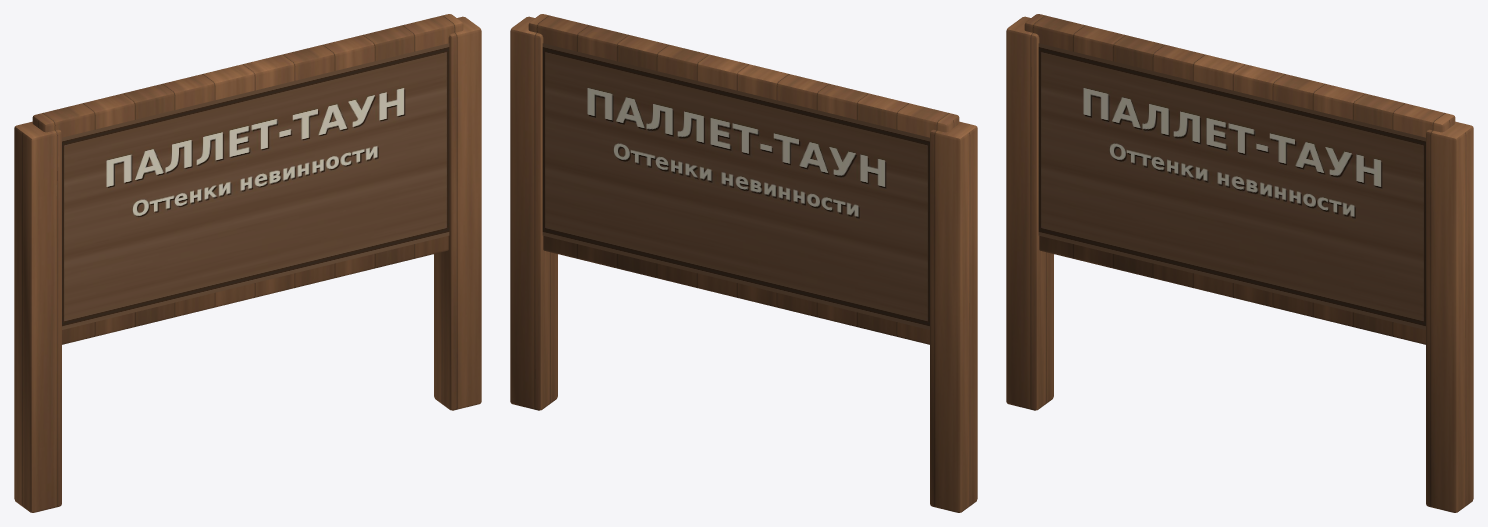
The model's file is sign_pallet.glb.
The picture shows the model from 3 angles, left to right: view 1: azimuth 30°, elevation 25°; view 2: azimuth 150°, elevation 25°; view 3: azimuth 330°, elevation 25°; orthographic projection.
Visible parts, largest first — view 1: sign_pallet; view 2: sign_pallet; view 3: sign_pallet.
Boxes of the visible parts, left/top/right/bottom form: sign_pallet: left=14, top=14, right=481, bottom=512; sign_pallet: left=510, top=14, right=977, bottom=512; sign_pallet: left=1006, top=14, right=1473, bottom=512.
Bounding box in the file's own units: 2.26 × 1.84 × 0.16.
2 materials, 2 textured.
